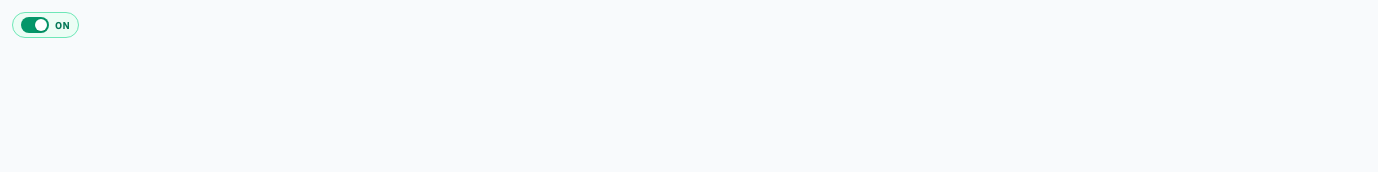
Test case: cancelling the reason form leaves access untouched
Click the switch with test id "access-toggle-UMP0025".
click(45, 25)  # box x1=12 y1=12 x2=79 y2=38
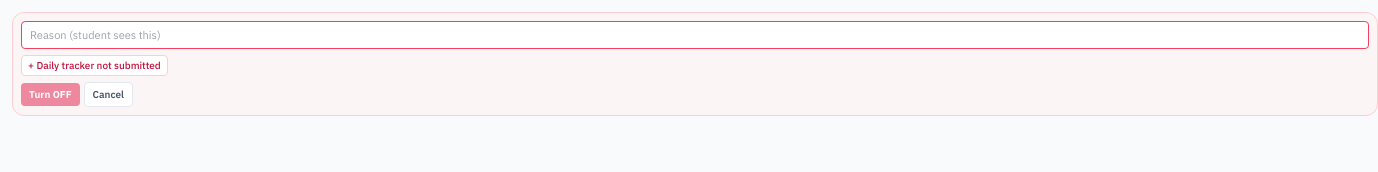
Click the button with test id "access-cancel-UMP0025".
click(108, 94)  # box x1=84 y1=82 x2=133 y2=107
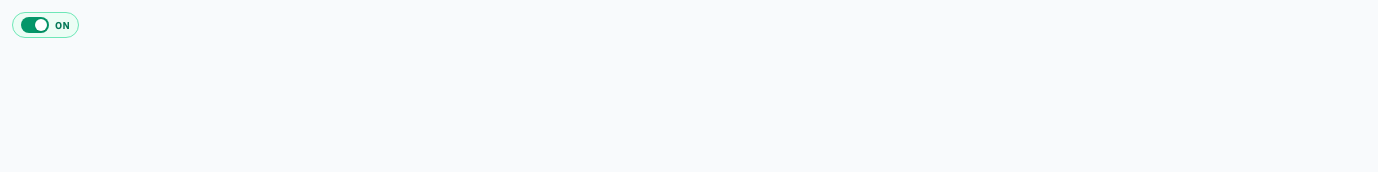
Expected: the switch with test id "access-toggle-UMP0025" is shown, x1=12 y1=12 x2=79 y2=38
